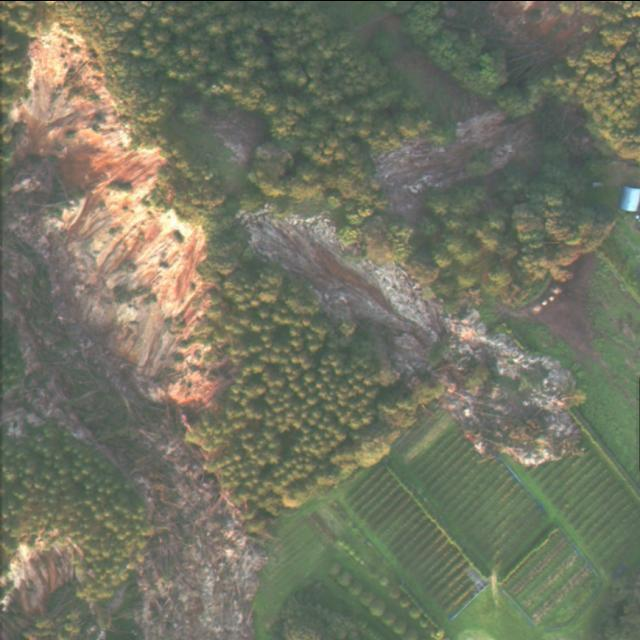landslide: (239, 207, 580, 464), (8, 329, 277, 640), (4, 25, 220, 405), (376, 109, 534, 206), (504, 0, 608, 73)
